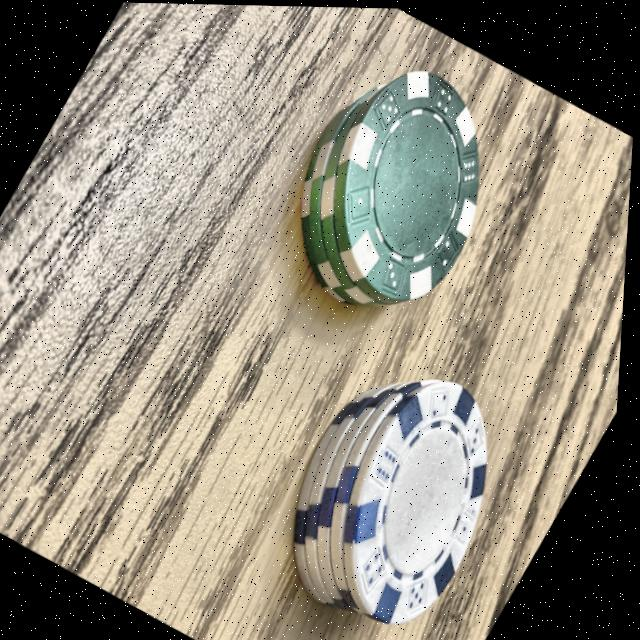Chip: (229, 31, 567, 366), (233, 322, 575, 640)
